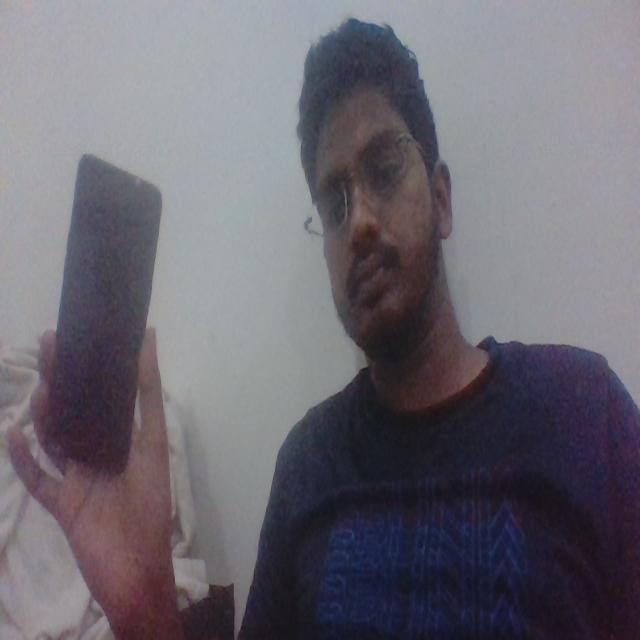Phone: (41, 148, 165, 482)
